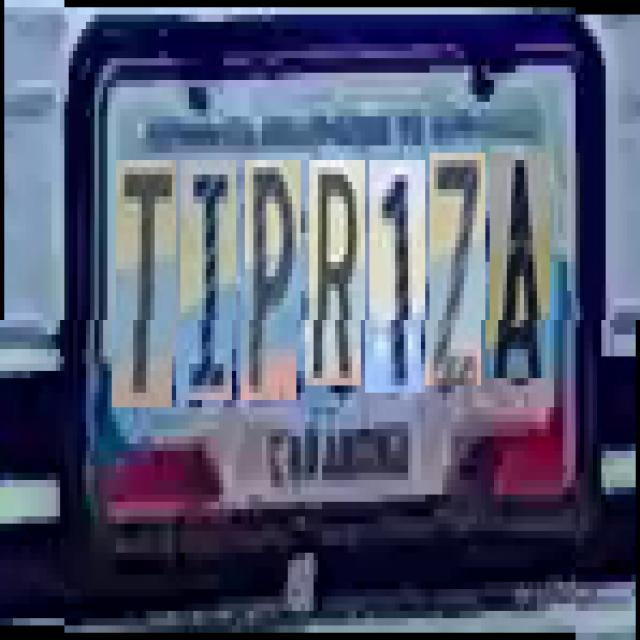1: (370, 160, 426, 393)
A: (490, 152, 550, 378)
I: (180, 160, 237, 400)
P: (245, 160, 301, 400)
R: (309, 160, 365, 386)
T: (116, 160, 176, 408)
Z: (430, 152, 486, 386)
